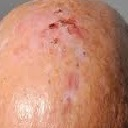Actinic: (40, 9, 84, 47)
